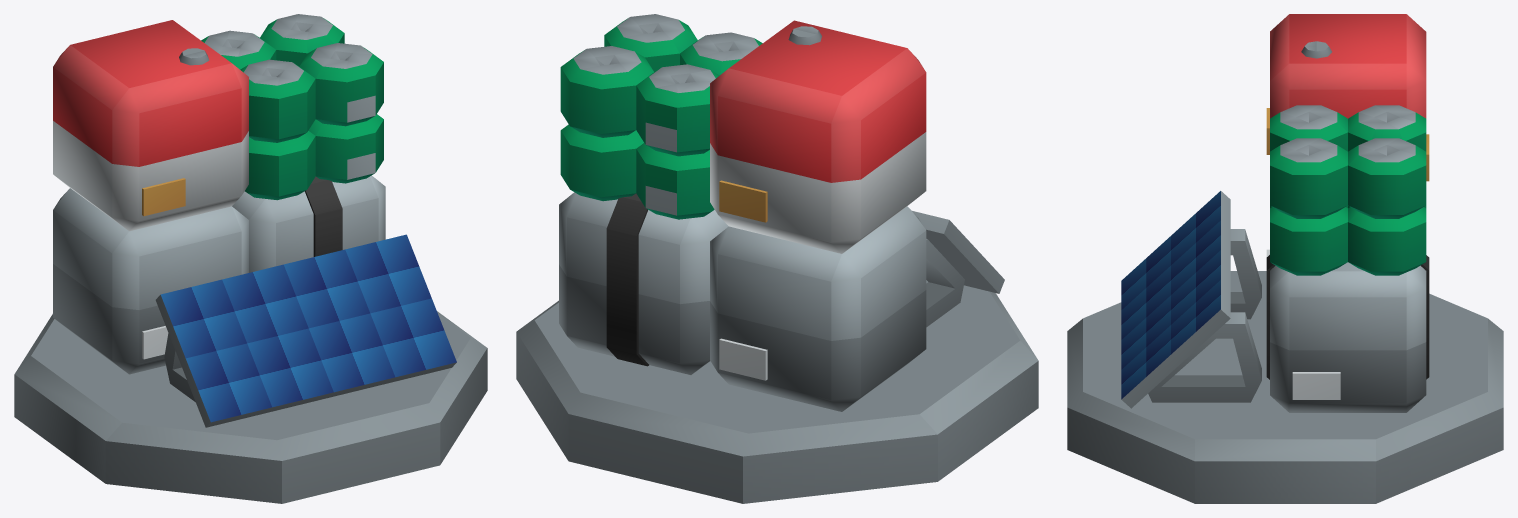
The model's file is roofmodule_cargo_C.obj.
3 views of the same model, side by side, from view 1: azimuth 30°, elevation 25°; view 2: azimuth 150°, elevation 25°; view 3: azimuth 270°, elevation 25° (orthographic). The views are drawn at different scales.
Bounding box in the file's own units: 1.4 × 1.22 × 1.4.
1 material, 1 textured.
